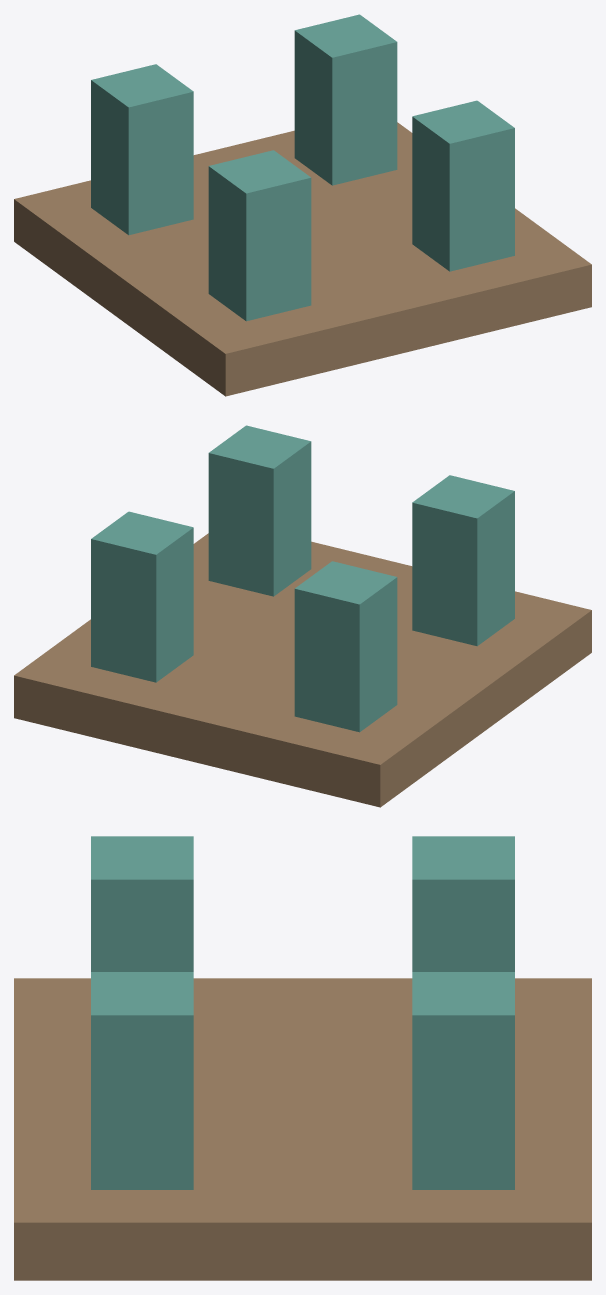
Rendered from Prop_DS_Crop_Kelpweed_S2_V0.glb.
3 renders of one model, top to bottom at view 1: azimuth 30°, elevation 25°; view 2: azimuth 150°, elevation 25°; view 3: azimuth 270°, elevation 25°, orthographic. The views are drawn at different scales.
Visible parts, largest first — view 1: Cube, Cube.004, Cube.001, Cube.002, Cube.003; view 2: Cube, Cube.003, Cube.002, Cube.001, Cube.004; view 3: Cube, Cube.003, Cube.004, Cube.001, Cube.002.
Part boxes in pixels (x1,y1,x2,y2): Cube: [14, 122, 591, 396]; Cube.004: [294, 14, 397, 185]; Cube.001: [208, 150, 311, 321]; Cube.002: [91, 64, 193, 235]; Cube.003: [412, 100, 514, 271]; Cube: [14, 533, 591, 807]; Cube.003: [208, 425, 311, 596]; Cube.002: [294, 561, 397, 732]; Cube.001: [412, 475, 514, 646]; Cube.004: [91, 511, 193, 682]; Cube: [14, 978, 591, 1280]; Cube.003: [91, 972, 193, 1189]; Cube.004: [412, 972, 514, 1189]; Cube.001: [91, 836, 193, 971]; Cube.002: [412, 836, 514, 971].
Size of the model in its own units: 0.9 by 0.4 by 0.9.
